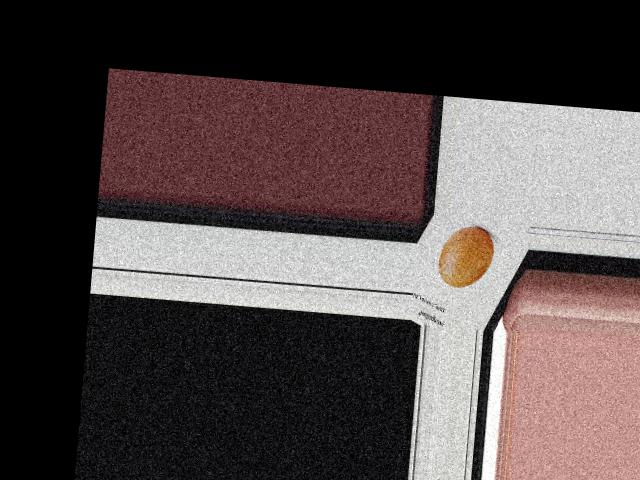egg: (437, 224, 495, 289)
